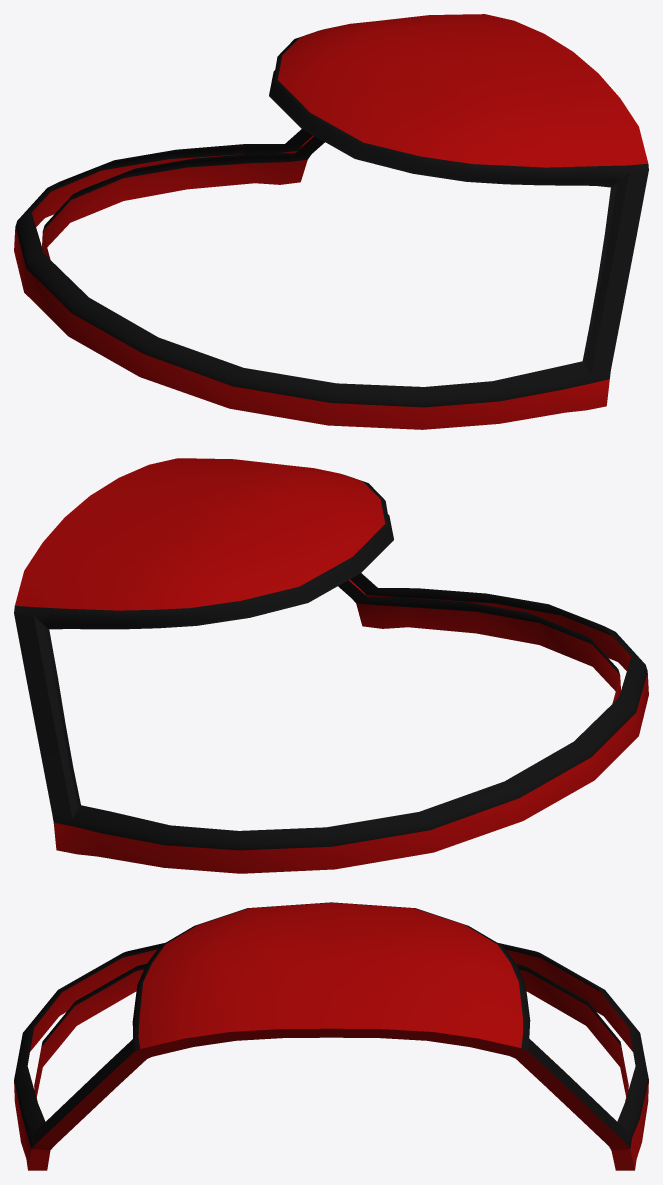
The model's file is boat_part2.FBX.
3 renders of one model, top to bottom at view 1: azimuth 30°, elevation 25°; view 2: azimuth 150°, elevation 25°; view 3: azimuth 270°, elevation 25°, orthographic. The views are drawn at different scales.
Visible parts, largest first — view 1: transform_hovercraft_RIG:hover001; view 2: transform_hovercraft_RIG:hover001; view 3: transform_hovercraft_RIG:hover001.
Part boxes in pixels (left/top/right/bottom): transform_hovercraft_RIG:hover001: left=14, top=14, right=648, bottom=429; transform_hovercraft_RIG:hover001: left=14, top=458, right=648, bottom=873; transform_hovercraft_RIG:hover001: left=14, top=902, right=648, bottom=1170.
Bounding box in the file's own units: 40.62 × 17.42 × 46.06.
